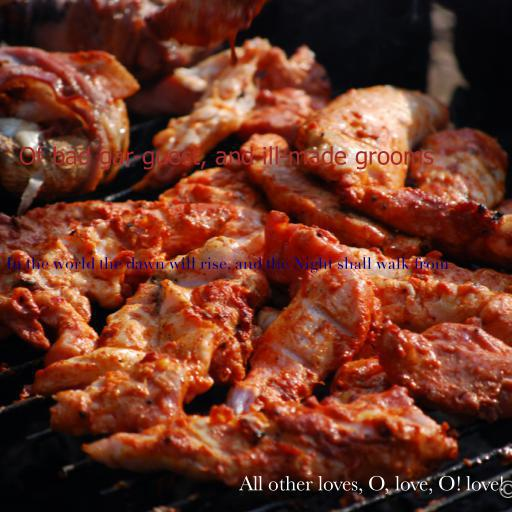Baskerville: (238, 475, 504, 495)
Didot: (5, 257, 449, 274)
Tahoma: (18, 146, 434, 170)
